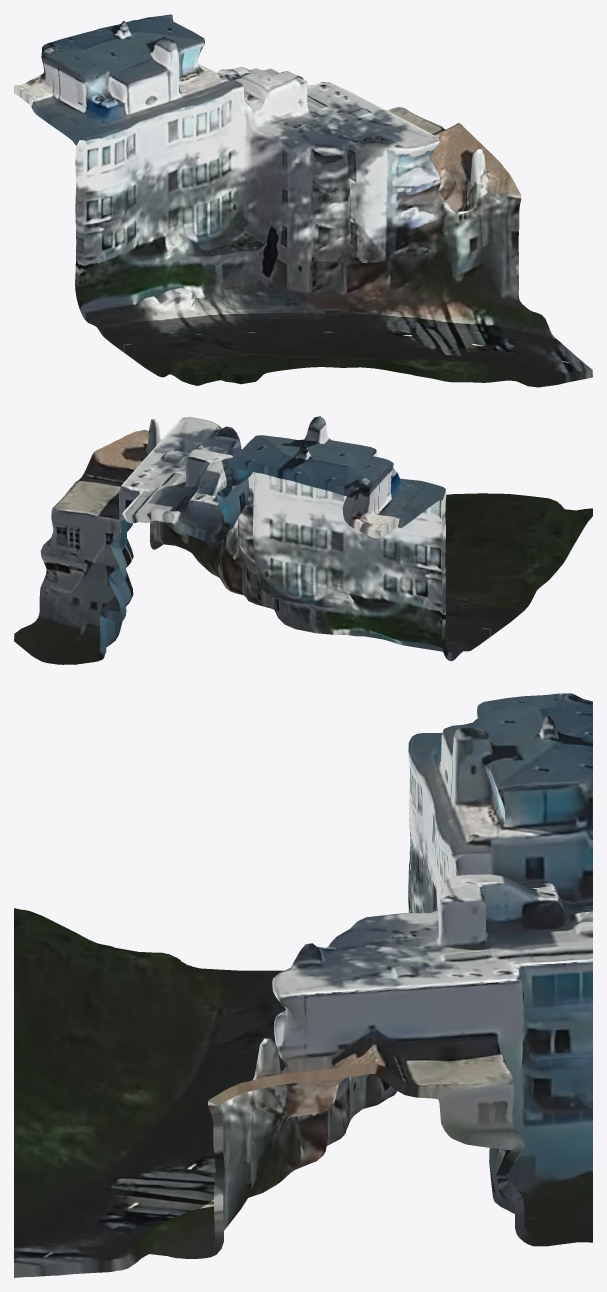
File: z20-167752-405192-h0-yup-uvflip-v3-world.glb
3 views of the same model, one above another, from view 1: azimuth 30°, elevation 25°; view 2: azimuth 150°, elevation 25°; view 3: azimuth 270°, elevation 25° (orthographic). The views are drawn at different scales.
Size of the model in its own units: 30.2 by 22.04 by 30.32.
Materials: 1 (1 with a texture image).
